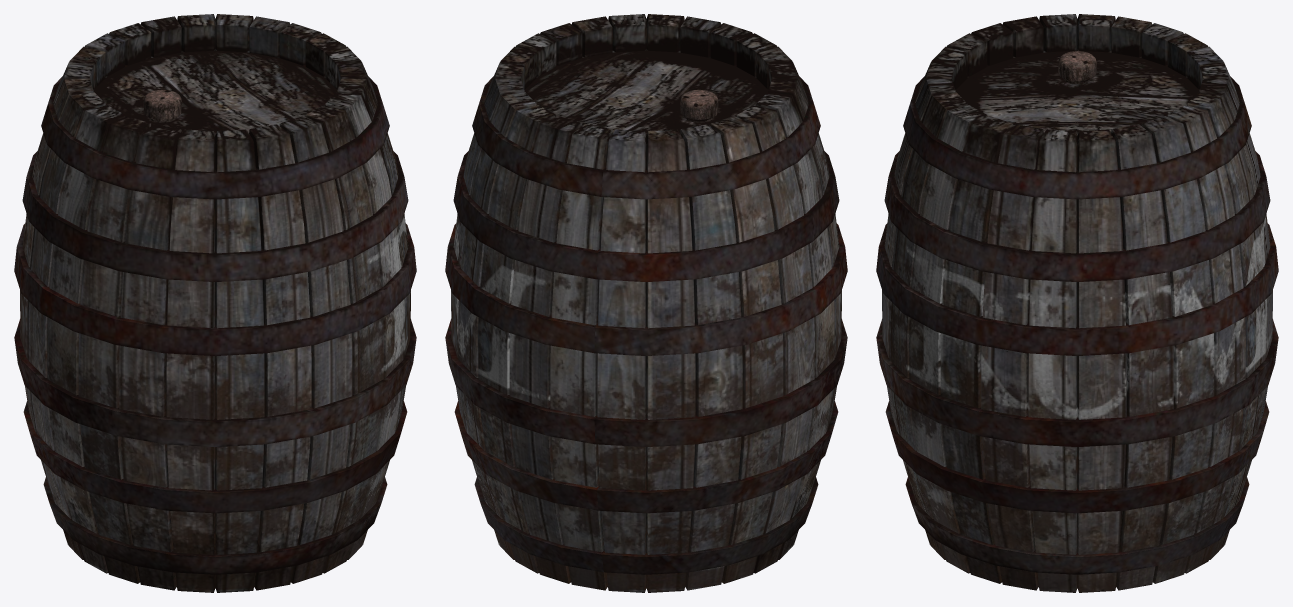
Rendered from old_wooden_barrel.glb.
3 renders of one model, left to right at view 1: azimuth 30°, elevation 25°; view 2: azimuth 150°, elevation 25°; view 3: azimuth 270°, elevation 25°, orthographic.
Visible parts, largest first — view 1: barrel_body, barrel_cork; view 2: barrel_body, barrel_cork; view 3: barrel_body, barrel_cork.
Boxes of the visible parts, <box> form: barrel_body: <box>14,14,416,592</box>; barrel_cork: <box>143,89,181,122</box>; barrel_body: <box>445,14,847,592</box>; barrel_cork: <box>680,89,718,122</box>; barrel_body: <box>876,14,1278,592</box>; barrel_cork: <box>1058,51,1096,83</box>.
Size of the model in its own units: 719 by 888 by 719.
Materials: 1 (1 with a texture image).
